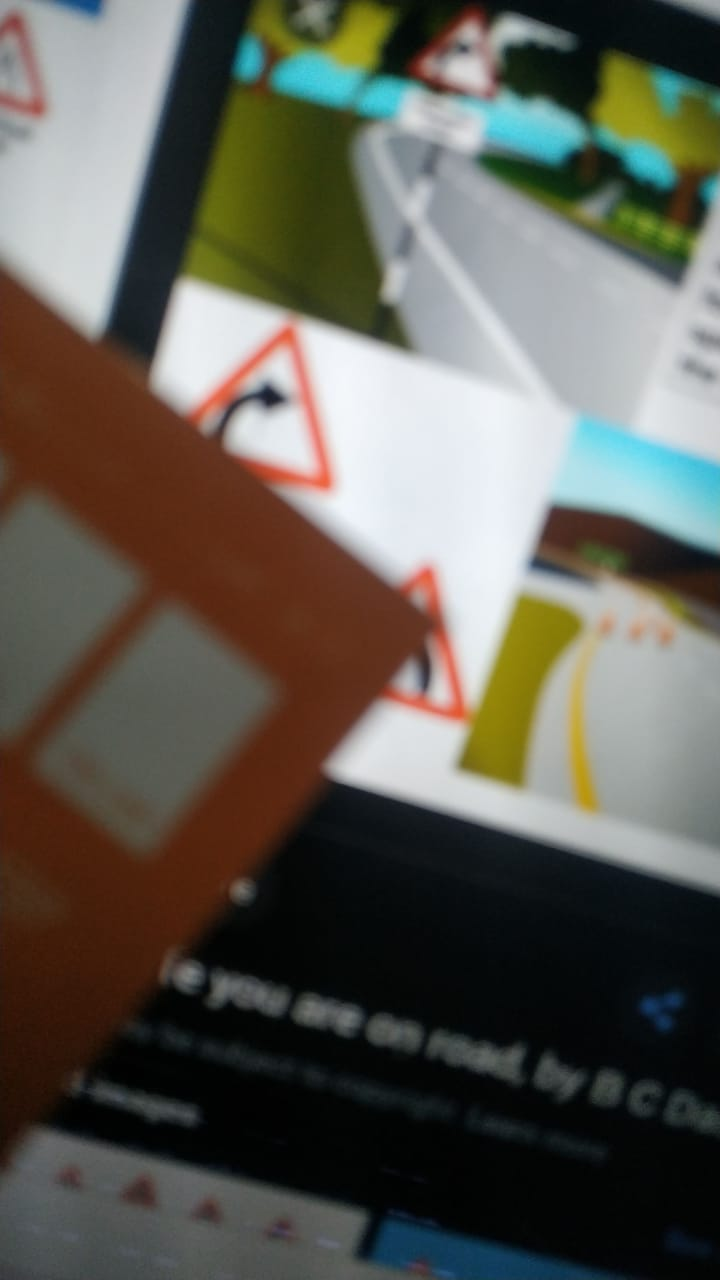LEFT CURVE: (347, 525, 520, 745)
RIGHT CURVE: (166, 276, 367, 496)
